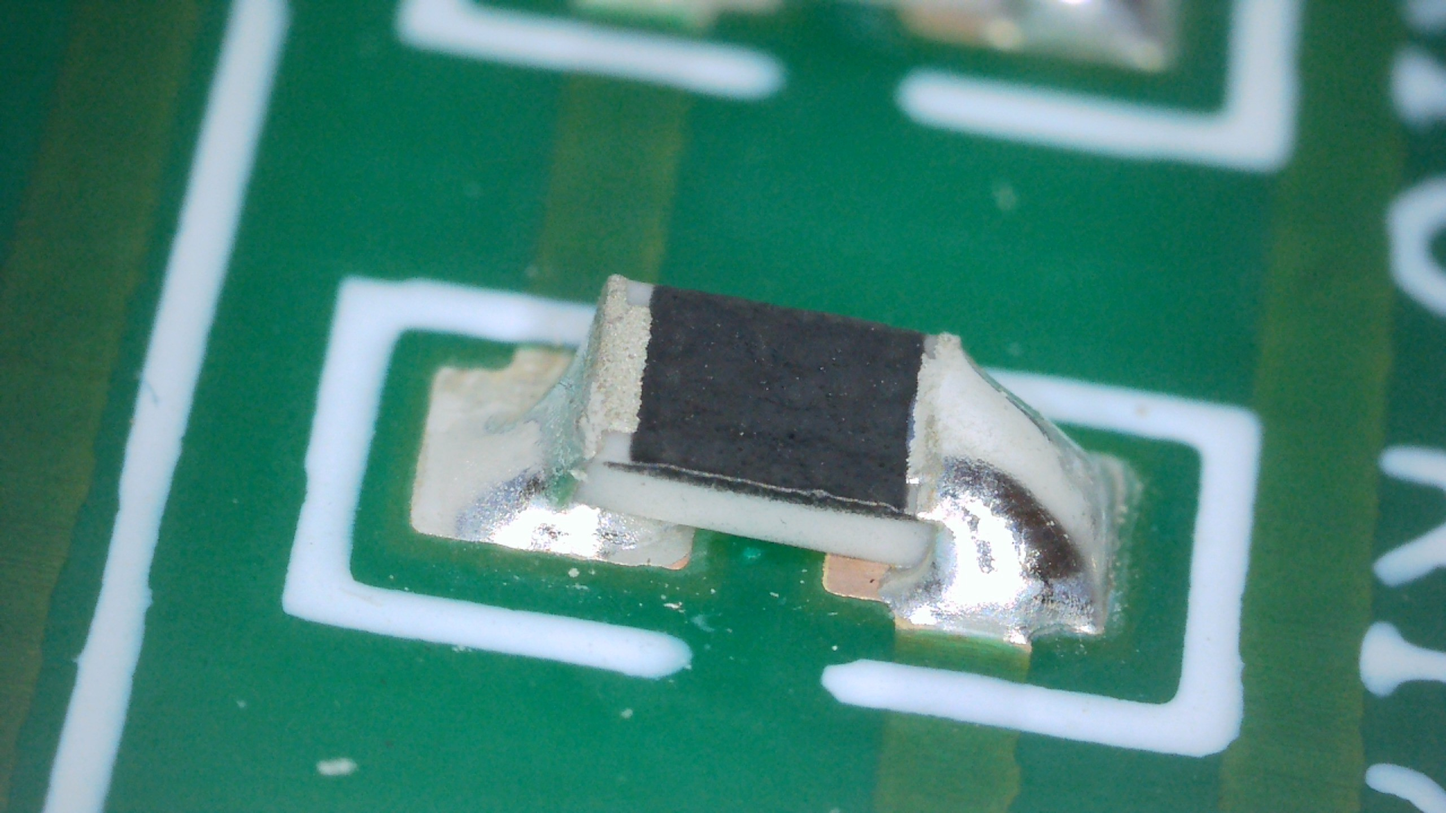NG: (880, 334, 1117, 640), (421, 276, 668, 562)
